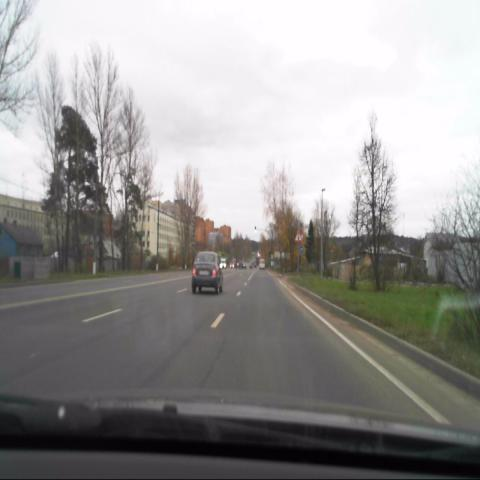1_8: (294, 230, 302, 243)
